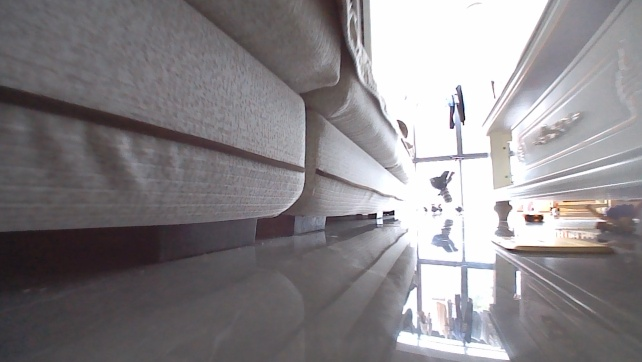plastic_toy: (582, 198, 641, 234)
sofa1: (0, 0, 415, 262)
tea_table1: (479, 0, 641, 226)
